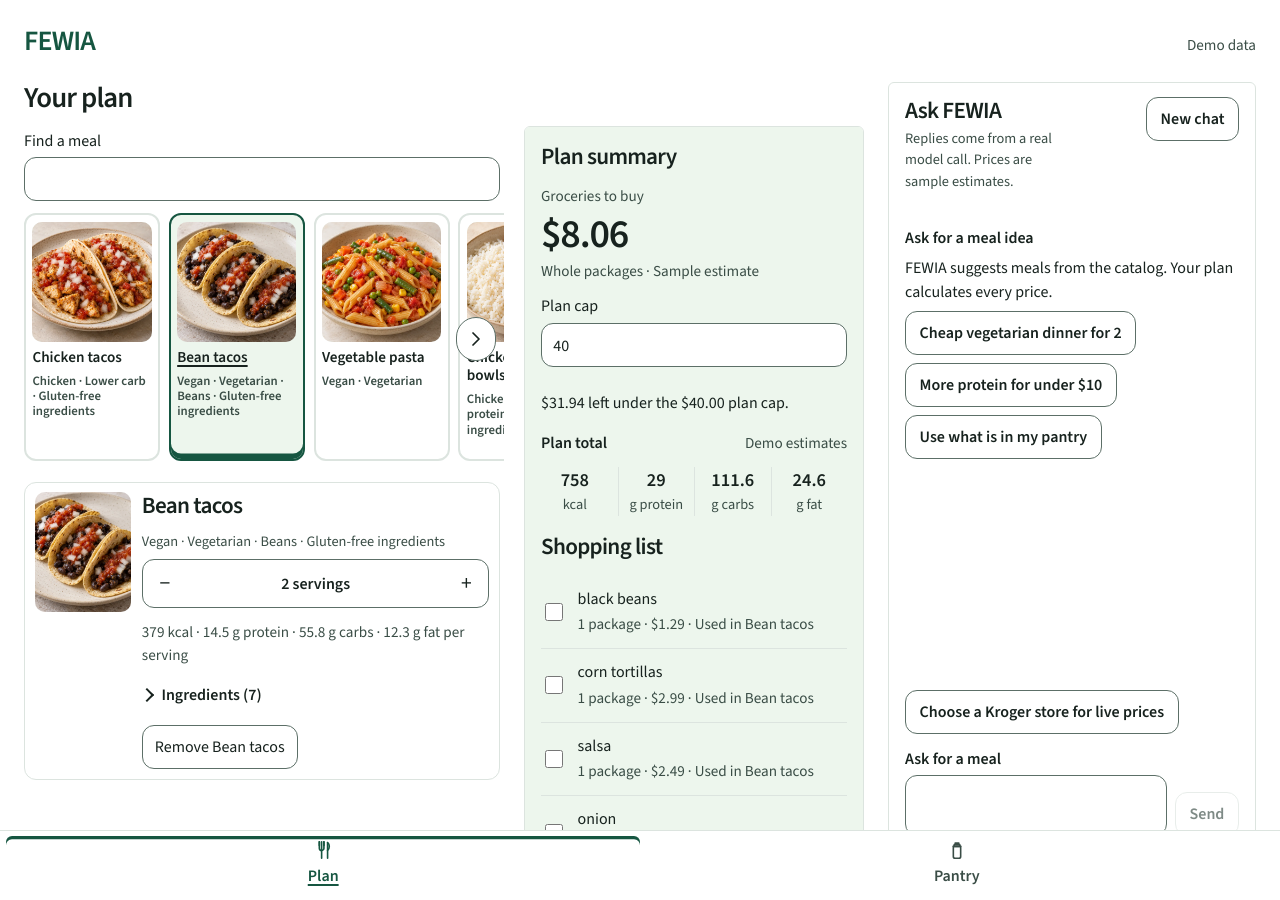
Test case: TonightPrototype › reports an empty plan in the status and the shopping list
Click the button "Remove Bean tacos". click: coordinates (220, 748)
box: x1=142 y1=726 x2=298 y2=770
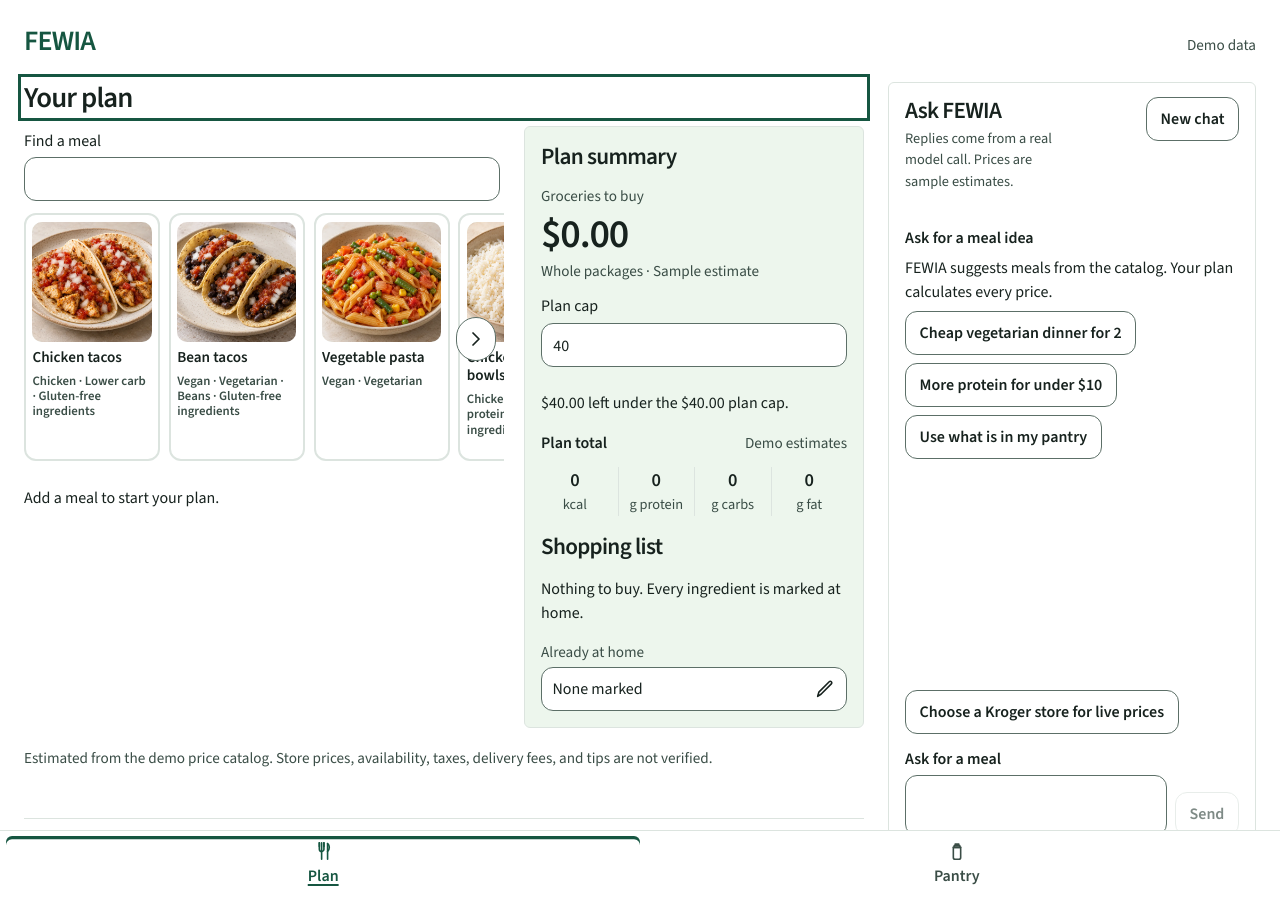
Expected: the element "Shopping list" shows "Nothing to buy. Every ingredient is marked at home.", x1=541 y1=578 x2=841 y2=623
